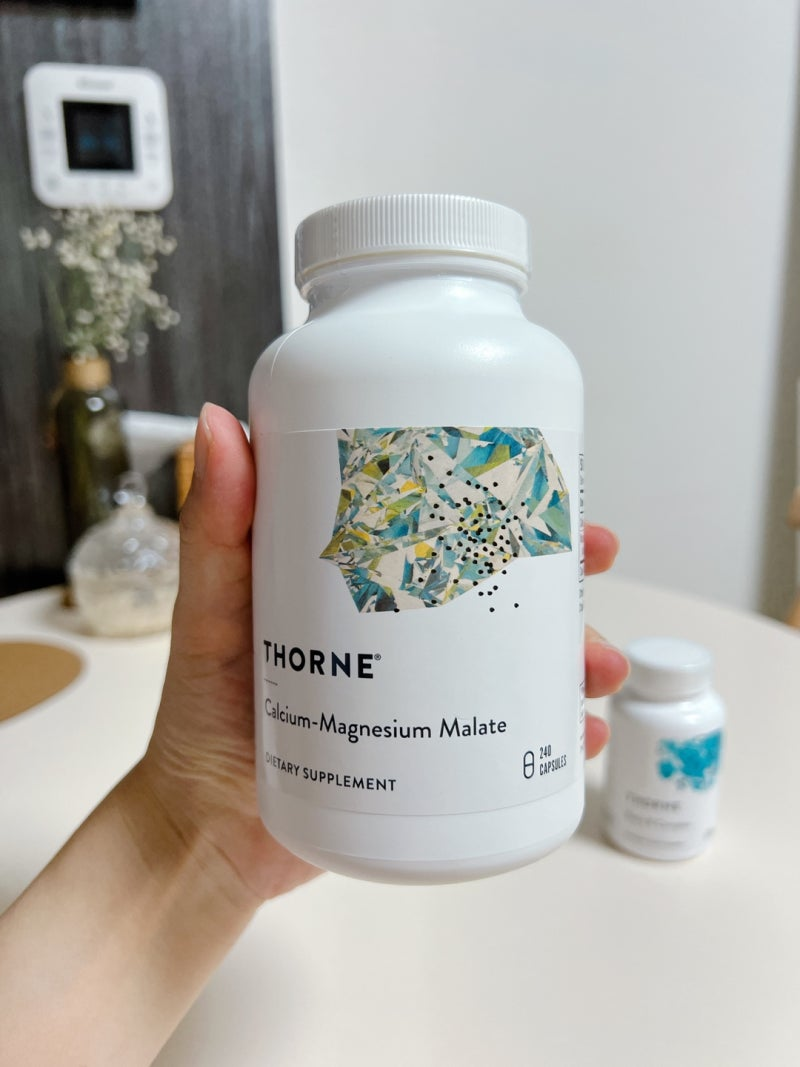supplement_label: (220, 414, 621, 828)
